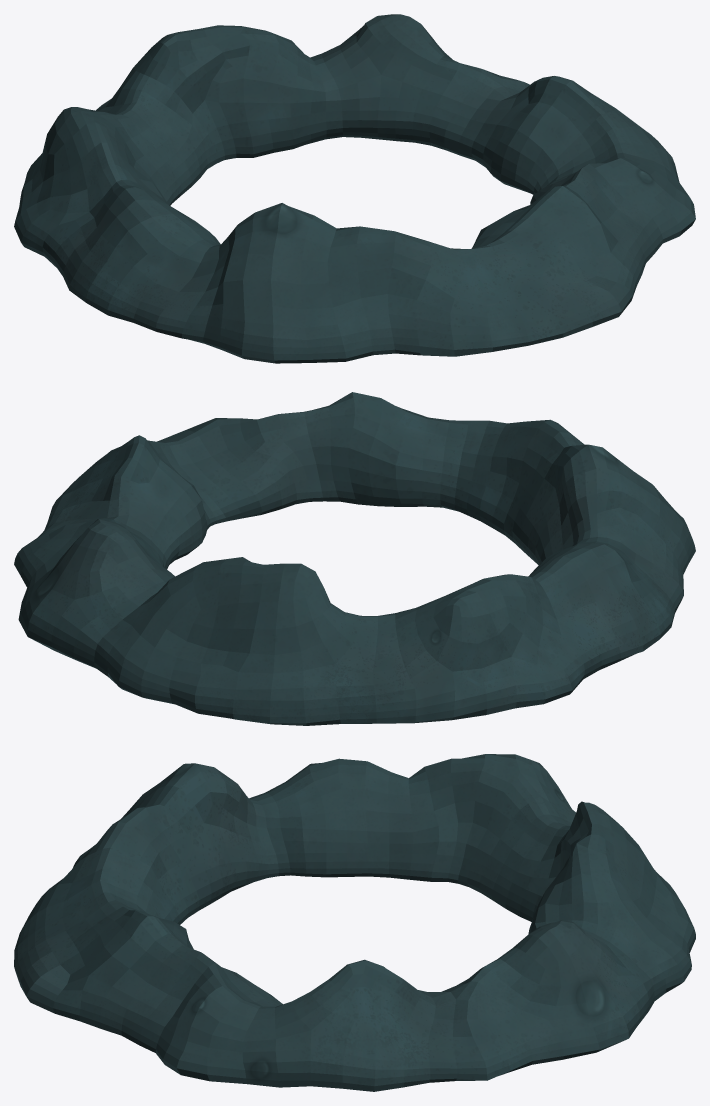
The model's file is crater_004.fbx.
The picture shows the model from 3 angles, top to bottom: view 1: azimuth 30°, elevation 25°; view 2: azimuth 150°, elevation 25°; view 3: azimuth 270°, elevation 25°; orthographic projection.
Parts seen in each view (by area): view 1: low.edit; view 2: low.edit; view 3: low.edit.
Boxes of the visible parts, x1=… form: low.edit: x1=14, y1=14, x2=695, y2=363; low.edit: x1=14, y1=392, x2=695, y2=725; low.edit: x1=14, y1=754, x2=695, y2=1091.
Size of the model in its own units: 2024 by 2088 by 403.
Materials: 1 (1 with a texture image).
